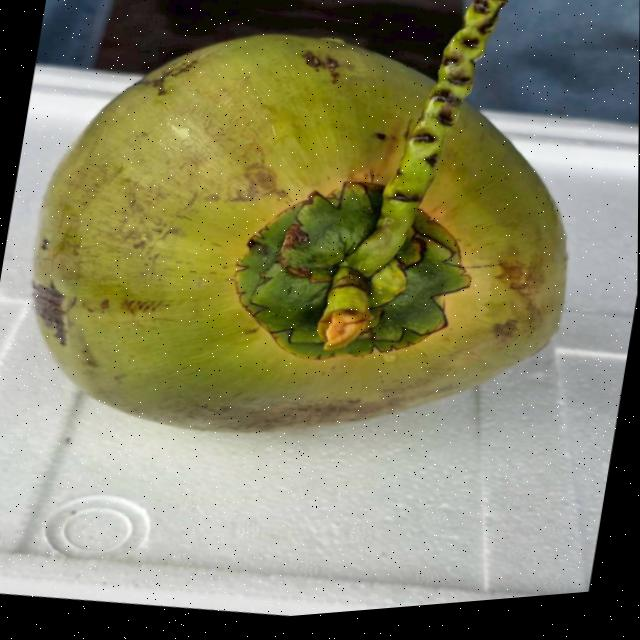coco_2.0: (175, 117, 516, 426)
